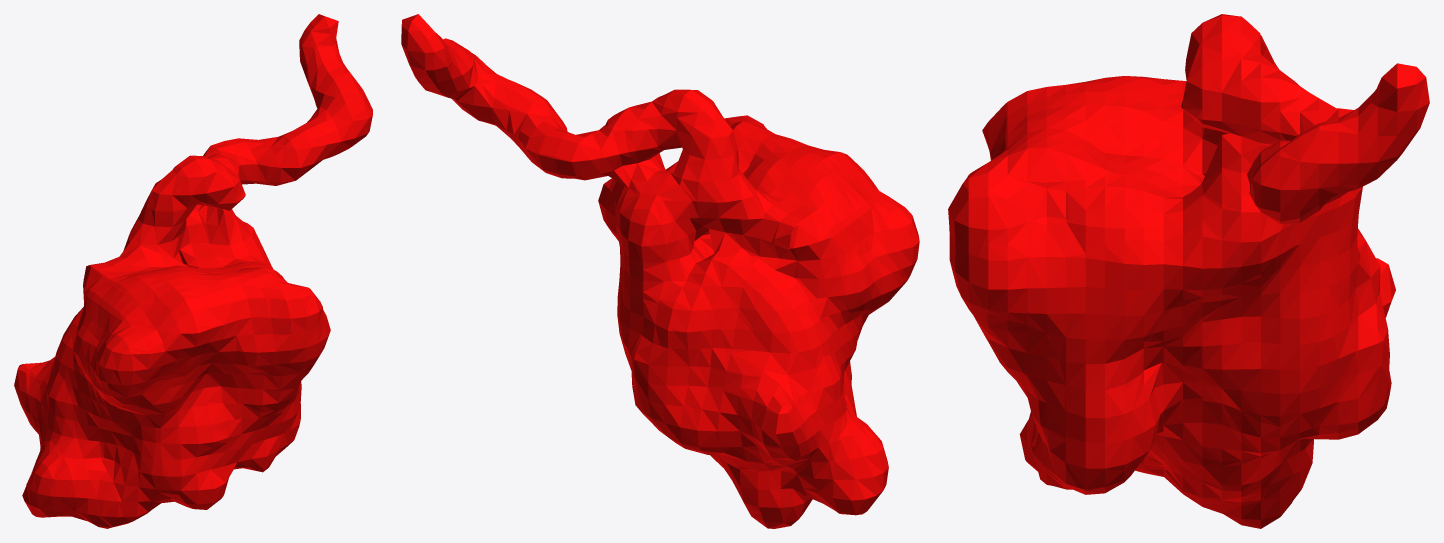
Rendered from putP_coarse.dae.
3 renders of one model, left to right at view 1: azimuth 30°, elevation 25°; view 2: azimuth 150°, elevation 25°; view 3: azimuth 270°, elevation 25°, orthographic. The views are drawn at different scales.
Parts seen in each view (by area): view 1: putP; view 2: putP; view 3: putP.
Part boxes in pixels (x1,y1,x2,y2): putP: [14, 14, 372, 528]; putP: [401, 14, 919, 528]; putP: [948, 14, 1429, 528].
Size of the model in its own units: 90.23 by 97.51 by 63.01.
